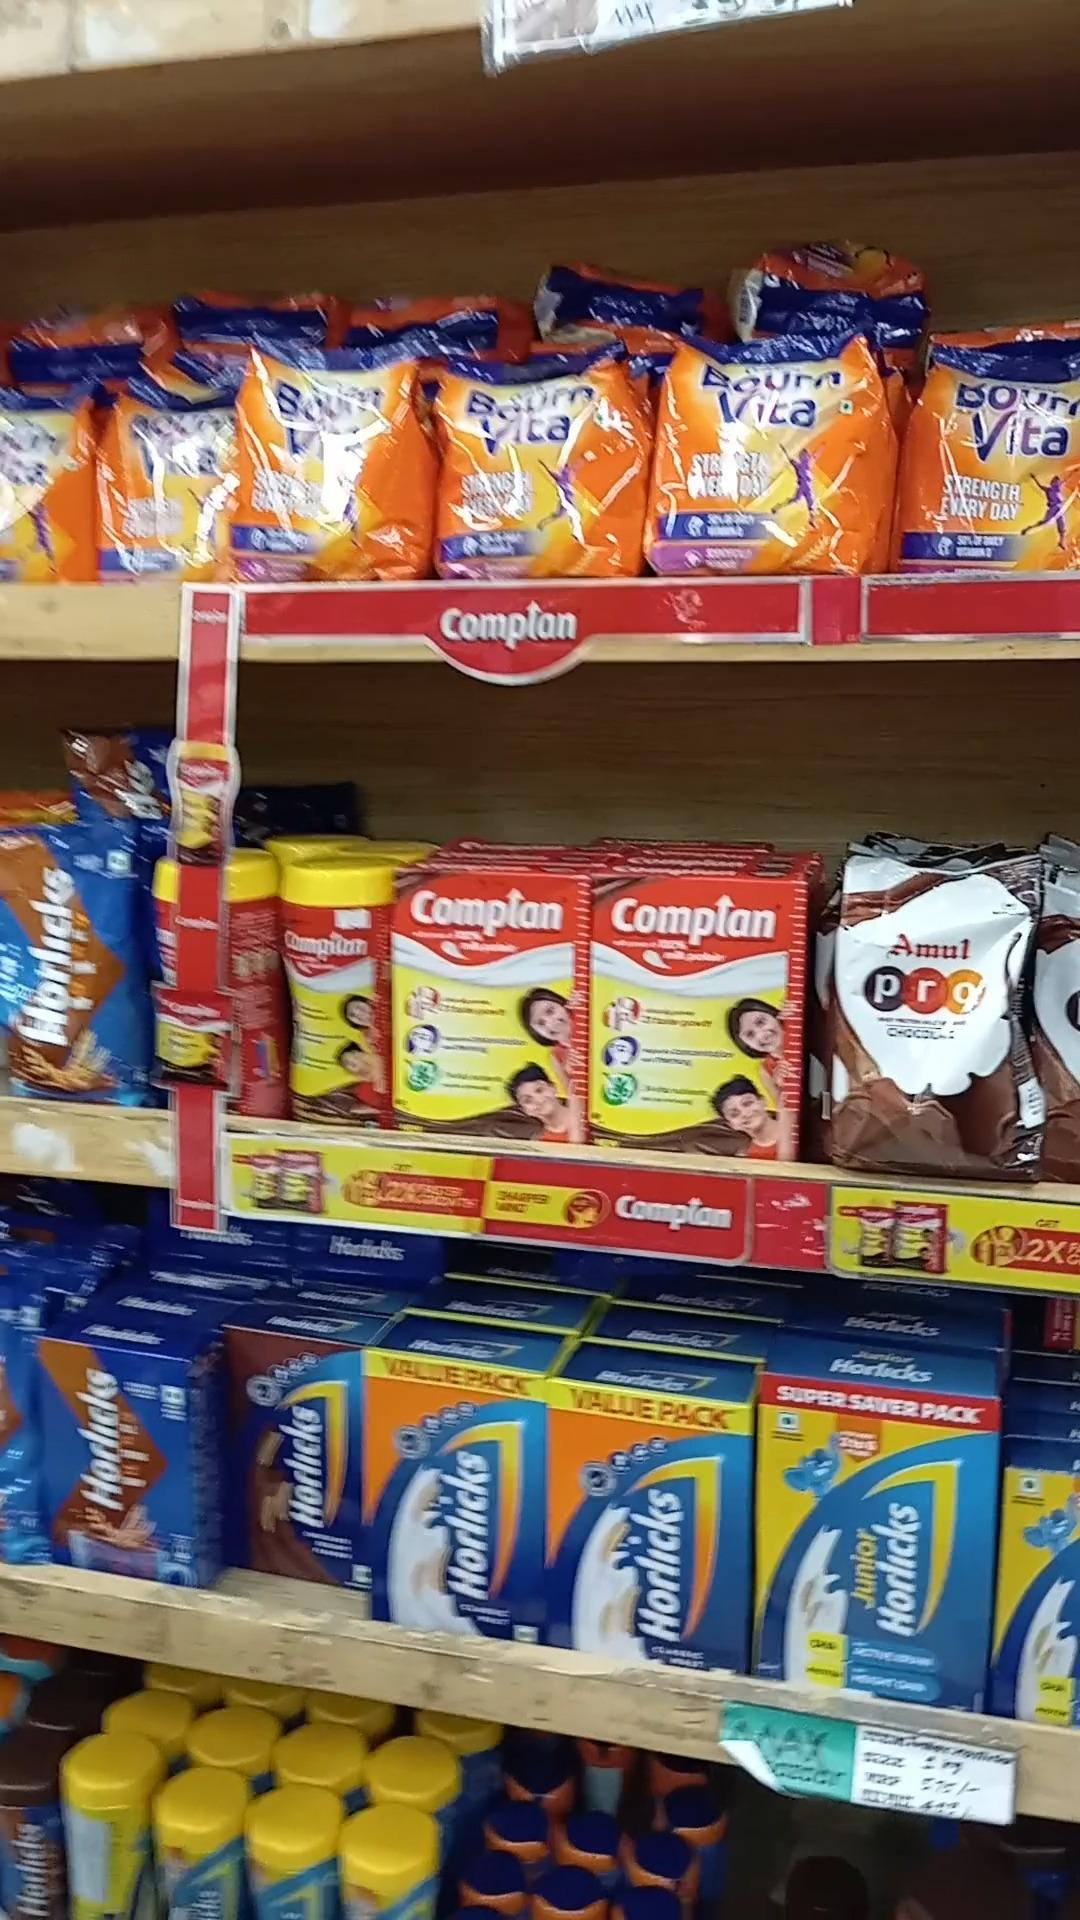BOURN_VITA_500_G_POUCH: (645, 318, 872, 576), (241, 335, 430, 578), (440, 326, 618, 574), (905, 330, 1080, 578)
COMPLAN_CHOCOLATE_500_GMS_JAR: (277, 843, 382, 1126)
COMPLAN_CHOCOLATE_500_GMS_PACK: (592, 885, 814, 1162), (393, 873, 579, 1127)
HORLICK_CLASSIC_MALT_500_G_PACK: (553, 1378, 749, 1658), (369, 1354, 539, 1646)
